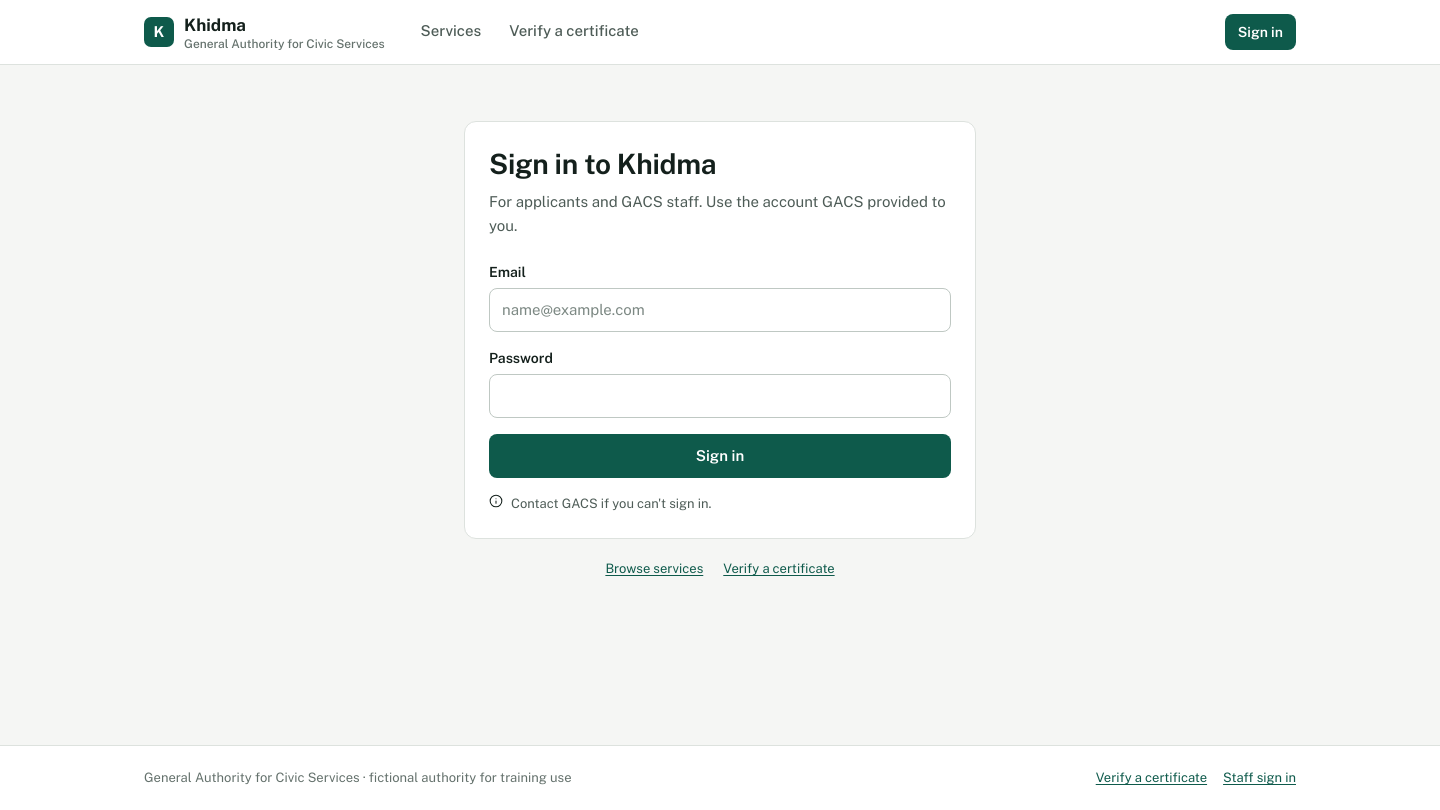
Scenario: LoginPage › signs khalid in and lands on Licensing dashboard
The image size is (1440, 810).
Type "khalid@khidma.test" into the field labelled "Email" at (720, 310), box [489,288,951,332]
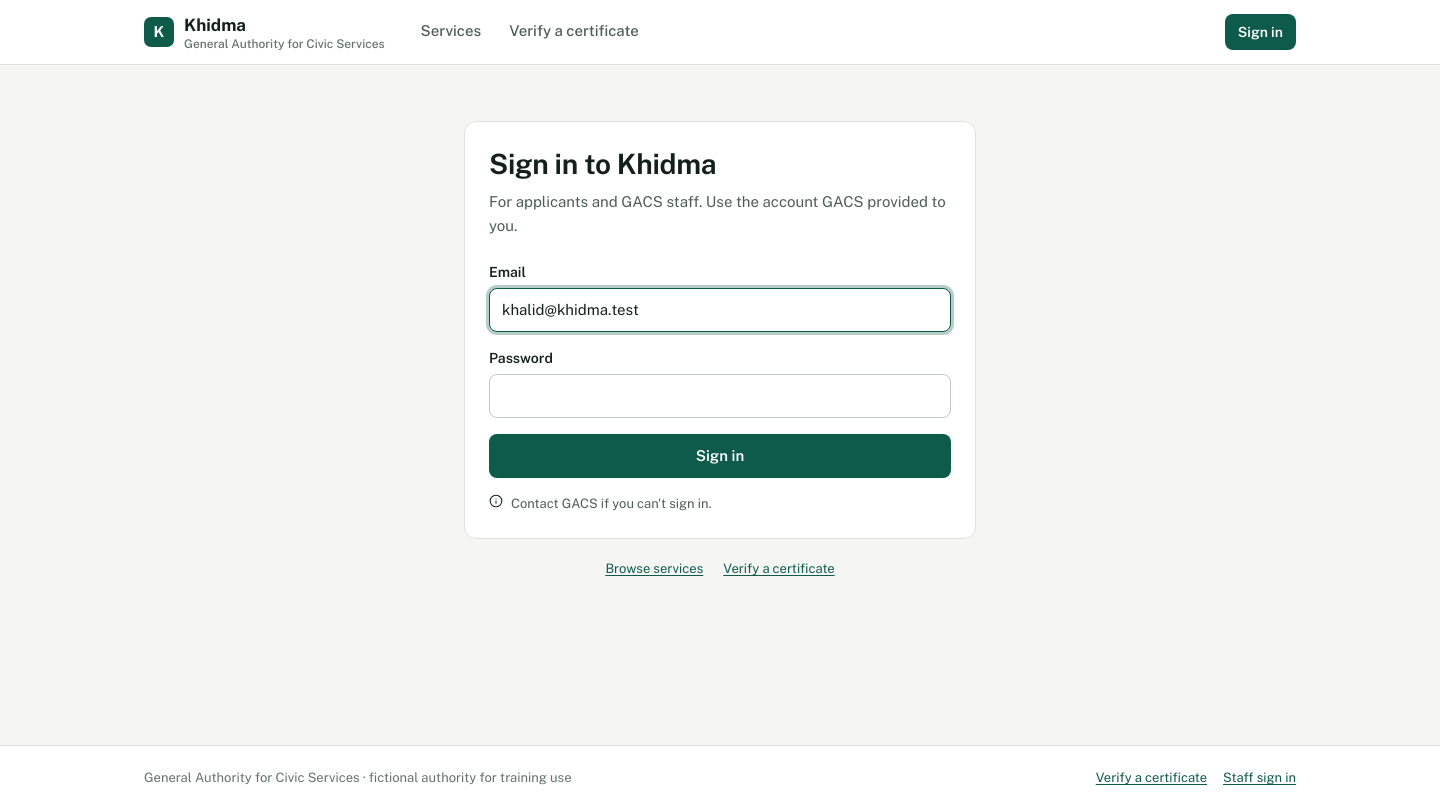
Type "Passw0rd!" into the password field labelled "Password" at (720, 396), box [489,374,951,418]
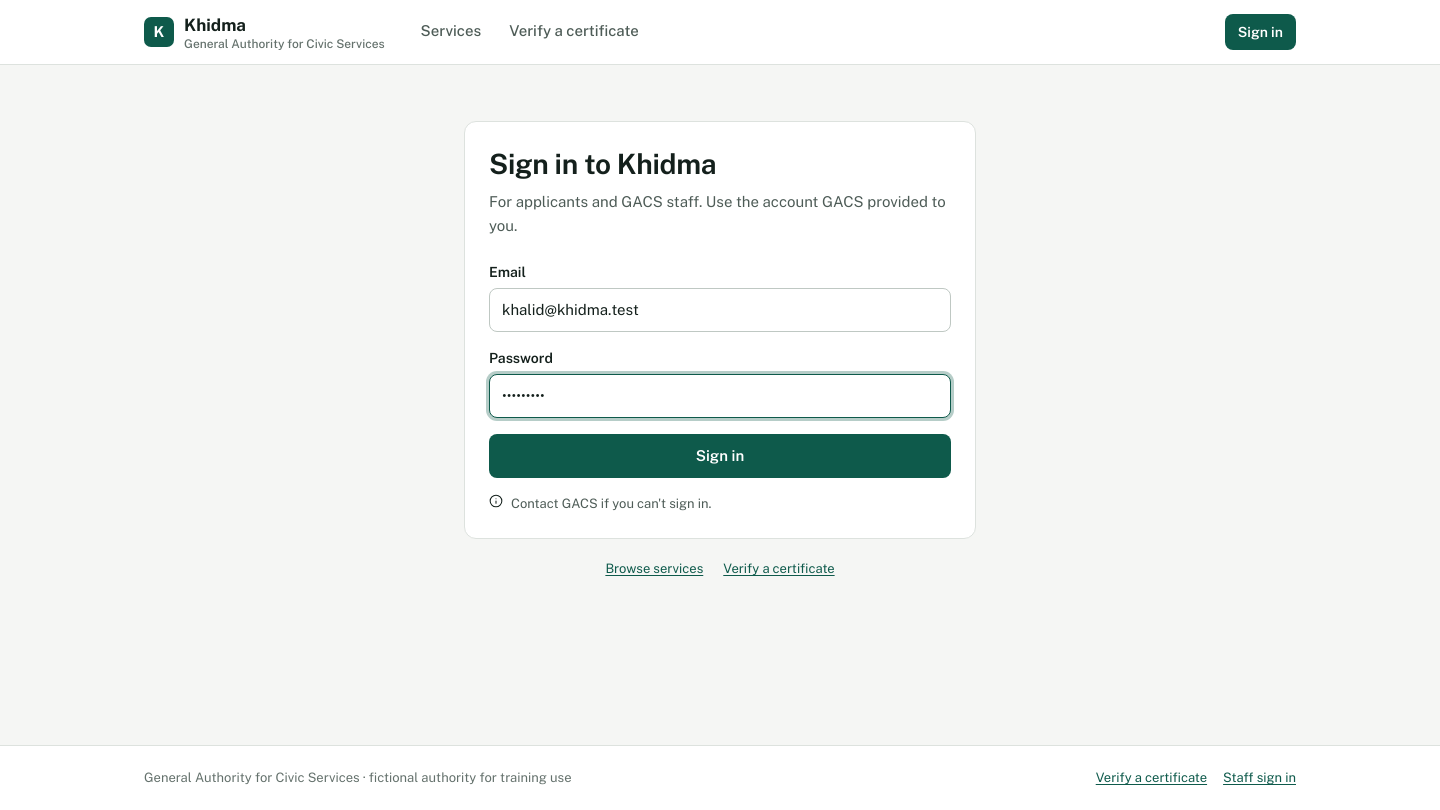
Click the button "Sign in" at (720, 456), box [489,434,951,478]
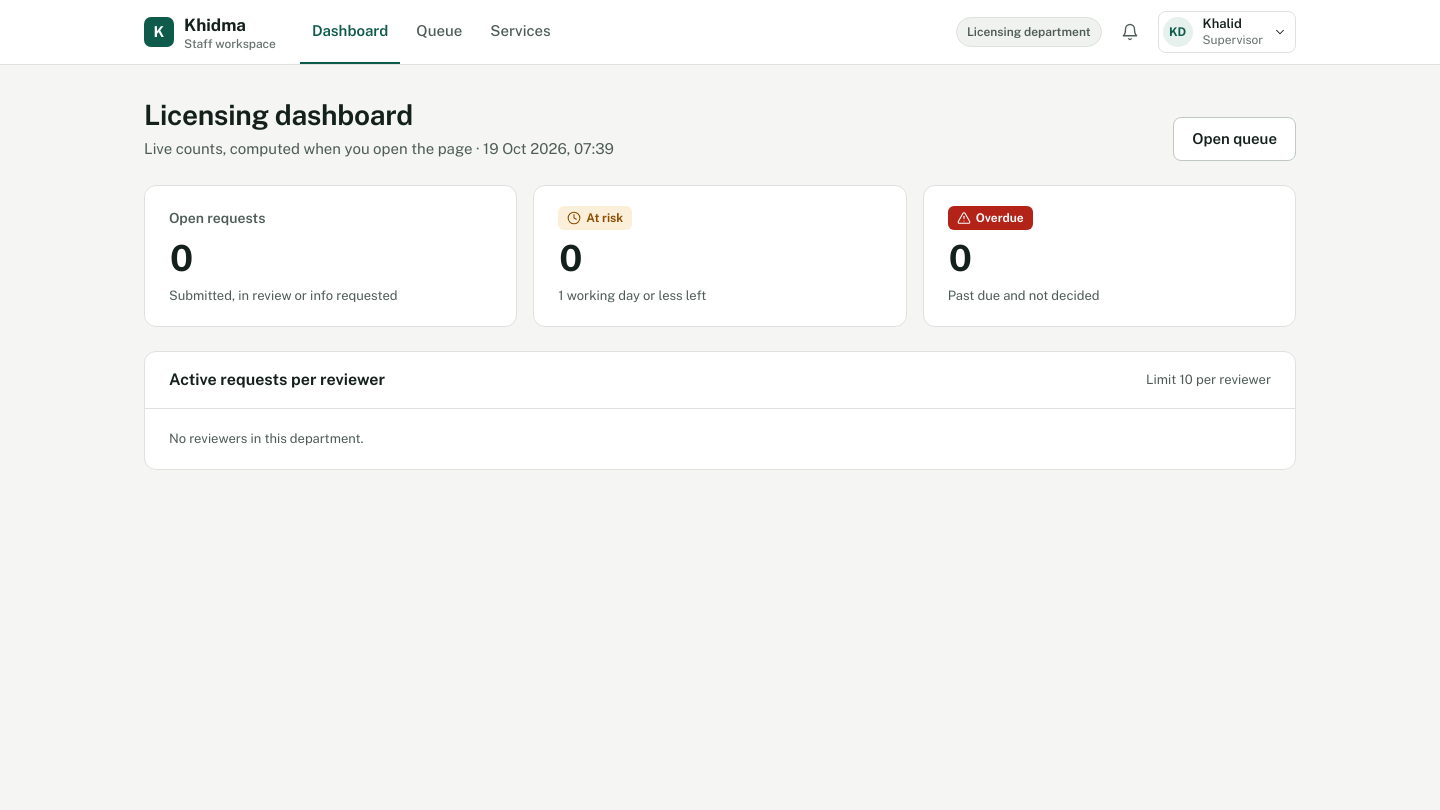
Expected: the heading "Licensing dashboard" is shown, [144,98,413,131]
